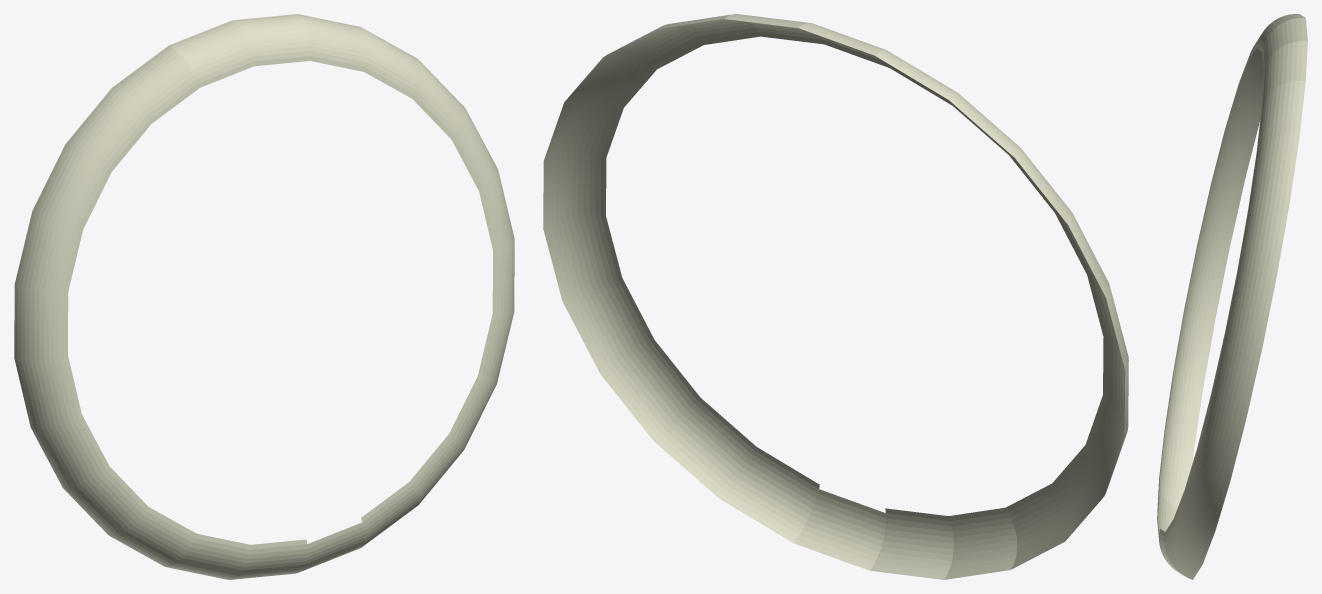
The model's file is original-34.obj.
3 views of the same model, side by side, from view 1: azimuth 30°, elevation 25°; view 2: azimuth 150°, elevation 25°; view 3: azimuth 270°, elevation 25° (orthographic). The views are drawn at different scales.
Visible parts, largest first — view 1: mesh6/mesh6-geometry/material_0#mesh6-geometry; view 2: mesh6/mesh6-geometry/material_0#mesh6-geometry; view 3: mesh6/mesh6-geometry/material_0#mesh6-geometry.
Boxes of the visible parts, <box> form: mesh6/mesh6-geometry/material_0#mesh6-geometry: <box>14,14,514,579</box>; mesh6/mesh6-geometry/material_0#mesh6-geometry: <box>543,14,1128,579</box>; mesh6/mesh6-geometry/material_0#mesh6-geometry: <box>1157,14,1307,579</box>.
Size of the model in its own units: 0.0622 by 0.0608 by 0.0162.
